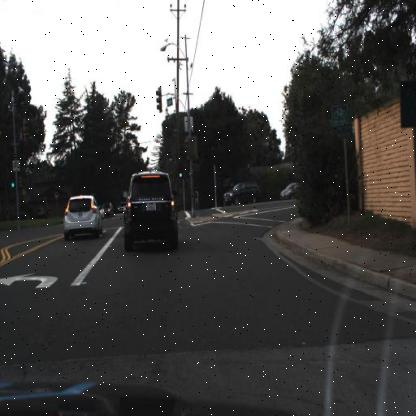car: (124, 170, 179, 250), (63, 194, 102, 241), (223, 180, 260, 206), (278, 183, 302, 198)
trafficLight-Green: (176, 160, 184, 183), (9, 169, 16, 192)
